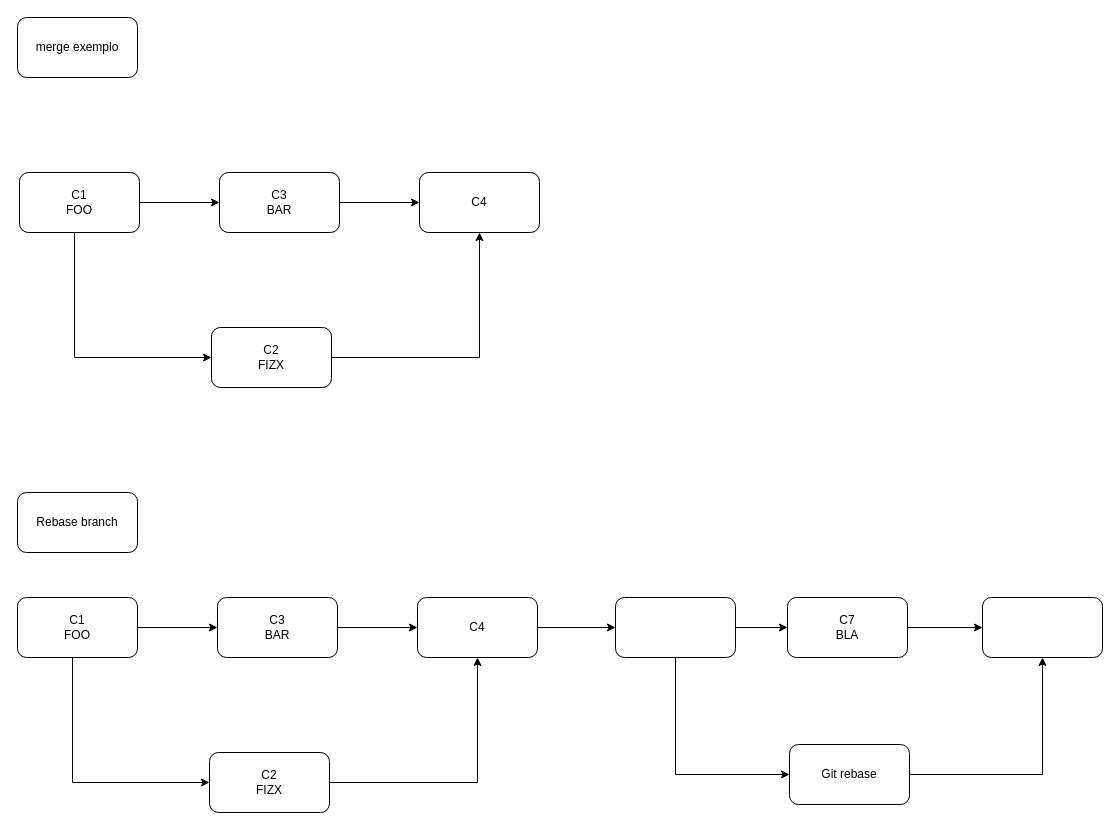
This 1120x830 diagram has some shape labels left out. The shapes that lost their labels are listed below. From the top down, each one's box as (x1, y1, x2, y2) in pixels, then its label:
(614, 596, 736, 658): C5 BUzz
(982, 596, 1102, 658): C6 REBASE BRACH
